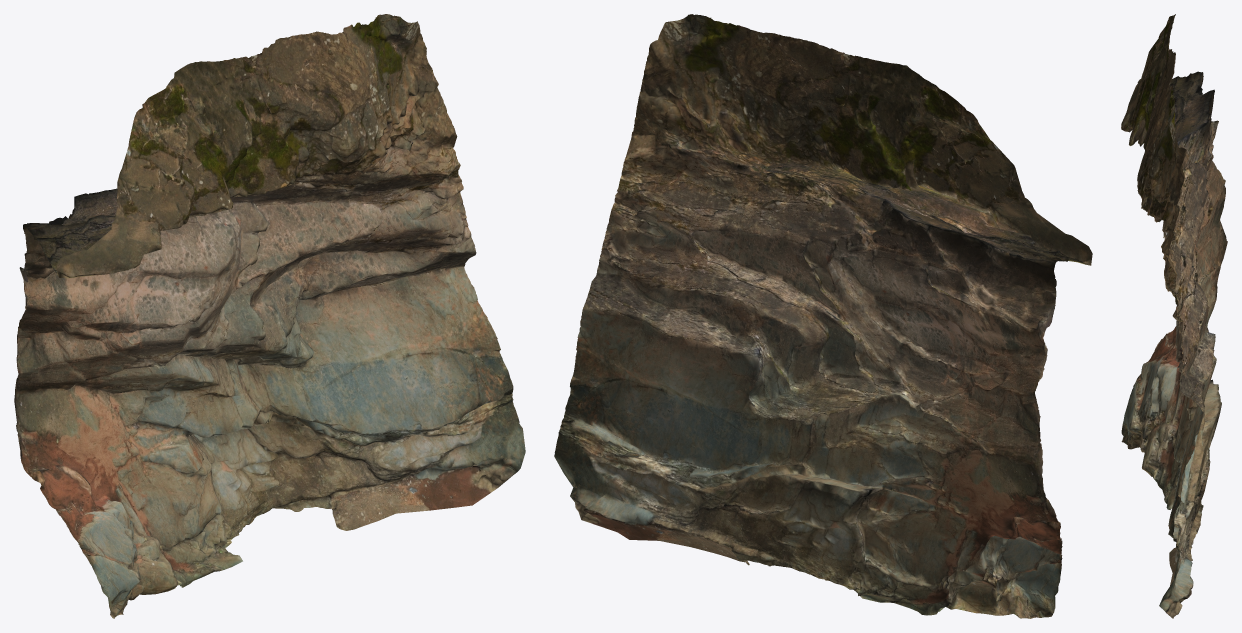
Rendered from rock-face-01.glb.
3 views of the same model, side by side, from view 1: azimuth 30°, elevation 25°; view 2: azimuth 150°, elevation 25°; view 3: azimuth 270°, elevation 25° (orthographic). The views are drawn at different scales.
Parts seen in each view (by area): view 1: rock_face_01; view 2: rock_face_01; view 3: rock_face_01.
Boxes of the visible parts, x1,y1,x2,y2 form: rock_face_01: [14, 14, 525, 618]; rock_face_01: [554, 14, 1092, 618]; rock_face_01: [1121, 14, 1227, 618].
Bounding box in the file's own units: 4.99 × 5.08 × 1.02.
Materials: 1 (1 with a texture image).
